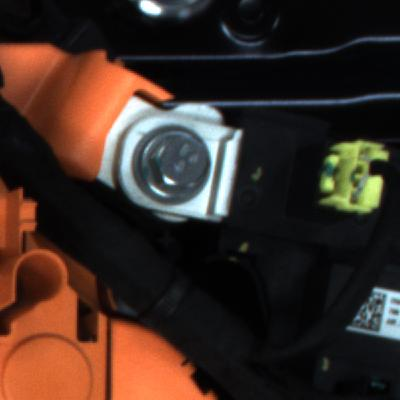nut_b: (130, 125, 231, 217)
